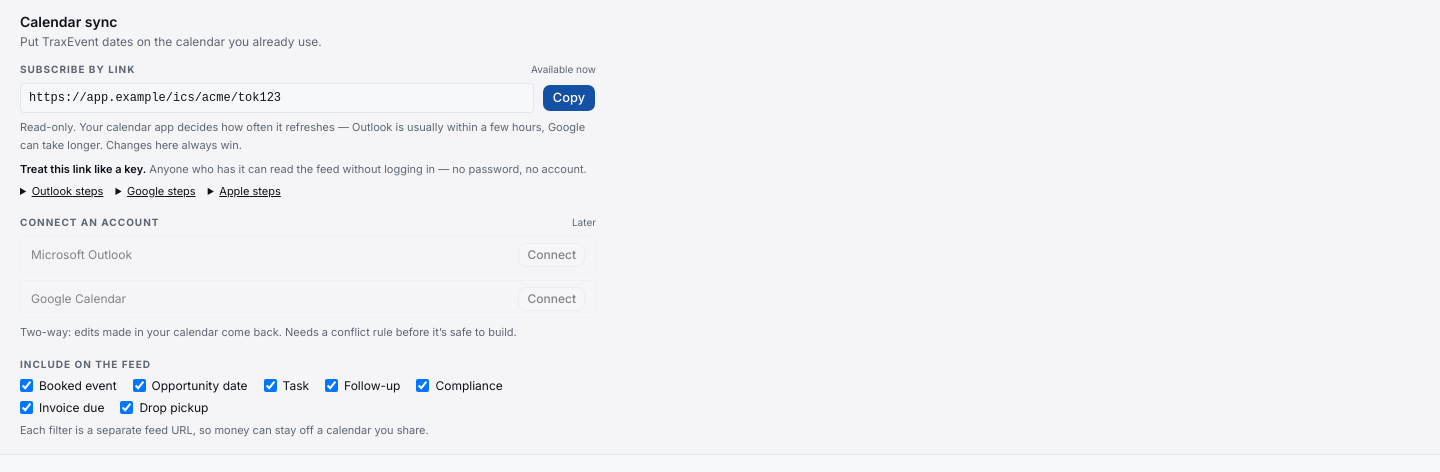
Scenario: SubscribePanel › copies the current URL
Click the button "Copy" at (569,98), box [542,84,596,112]
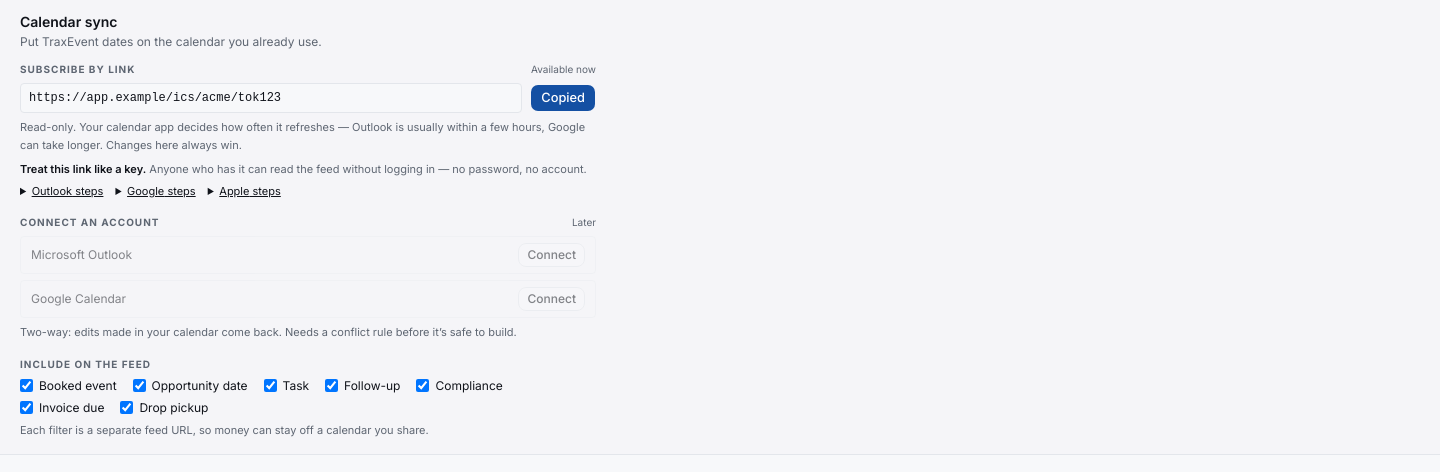
Now the button "Copied" is shown, box [530,84,596,112]
